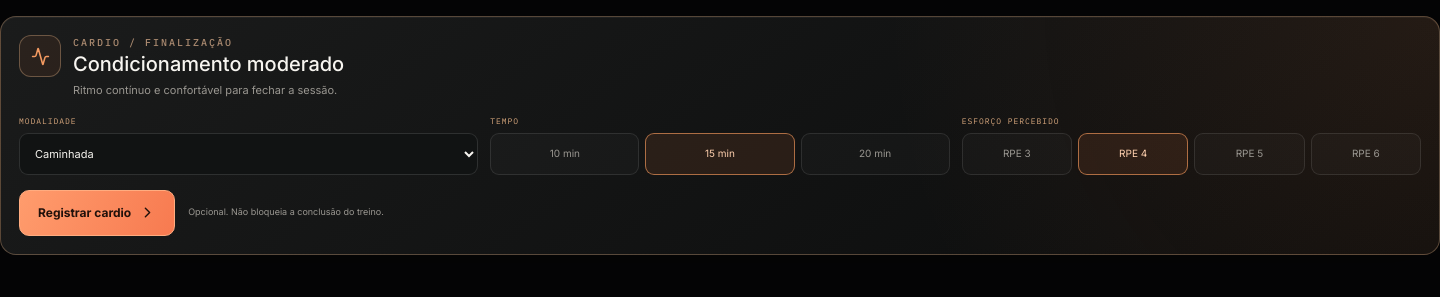
it: CardioFinisher › cardio é opcional e registra tempo, modalidade e RPE
This screenshot has width=1440, height=297.
Click the button with test id "cardio-save" at point(97, 212), box left=19, top=190, right=175, bottom=236
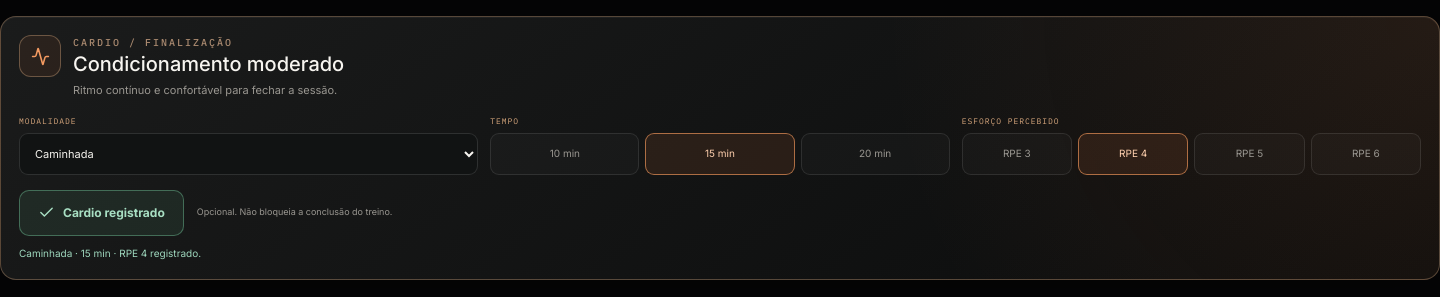
Check: the text "Cardio registrado" is shown, box left=19, top=190, right=184, bottom=236
